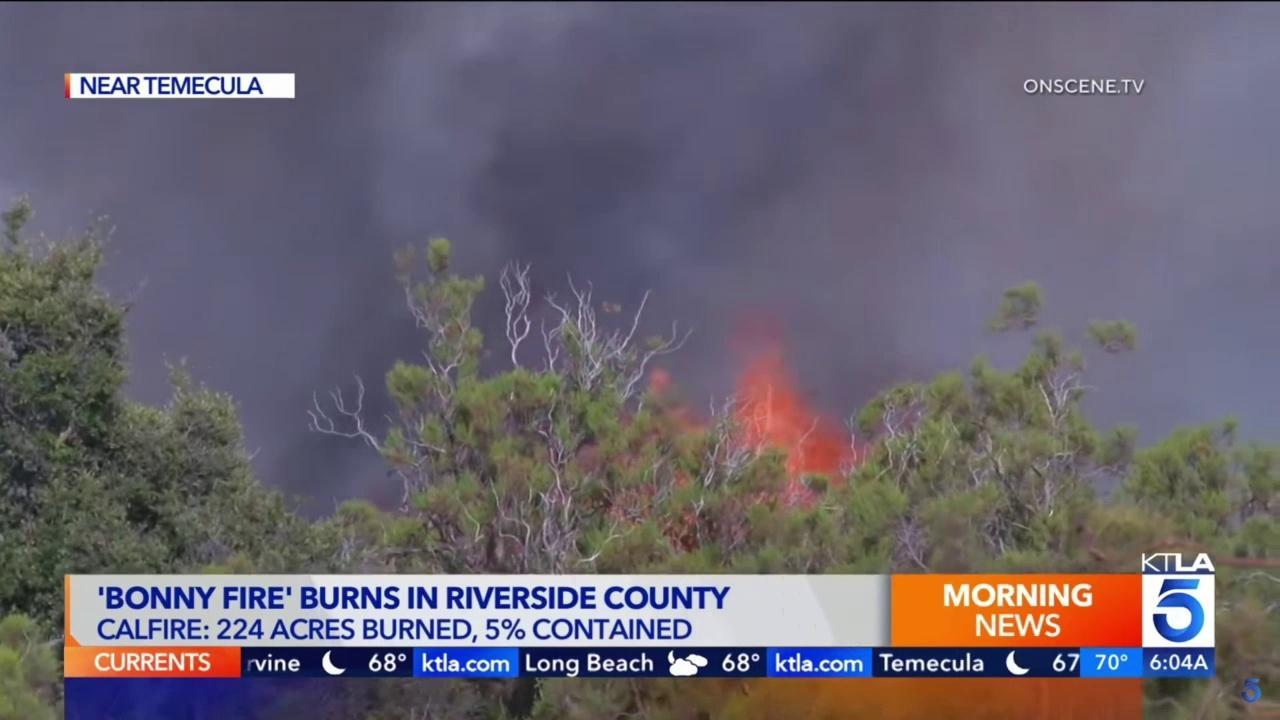fire: (582, 308, 873, 552)
smoke: (1, 2, 1213, 529)
